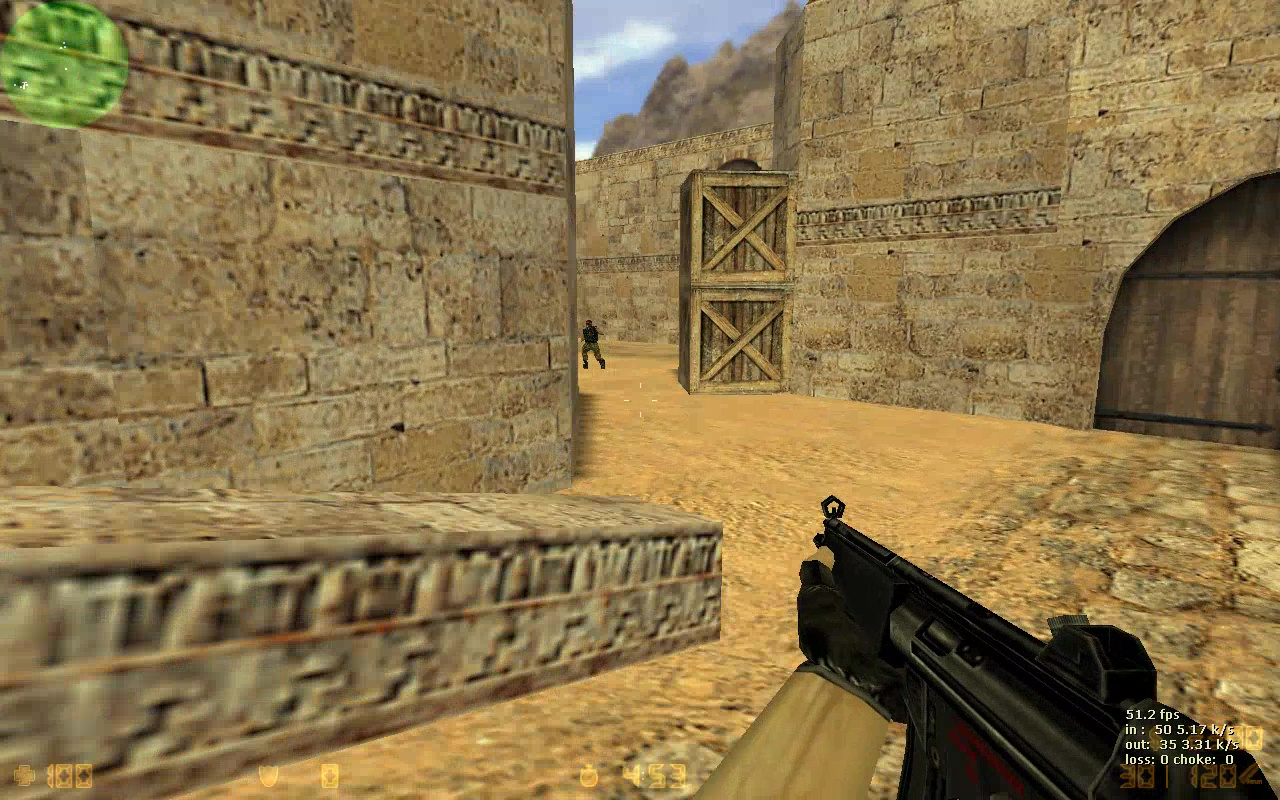terr1: (579, 320, 612, 377)
